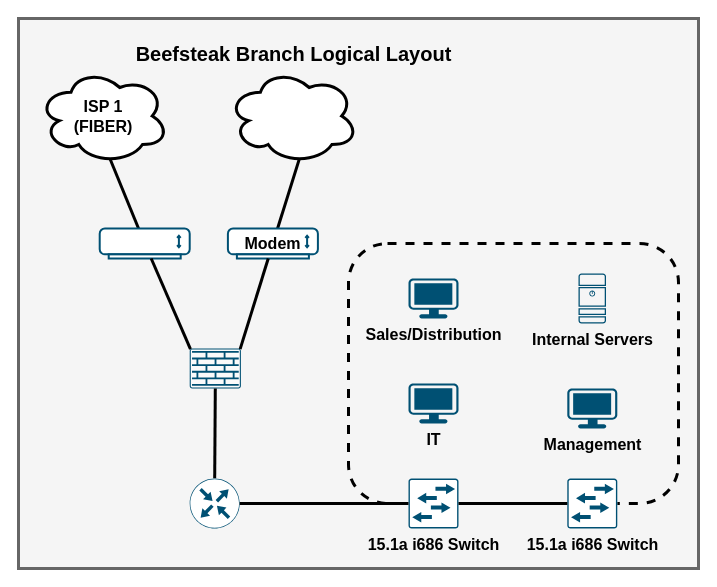
Image size: 717x587. Some labels were removed from this diagram. Here are the shapes that lost their labels. From the top down, the centre of each, then its label:
(x=292, y=115): ISP 2 (Serial)
(x=144, y=243): ONT
(x=215, y=368): Palo Alto
(x=214, y=503): c3640 Router
